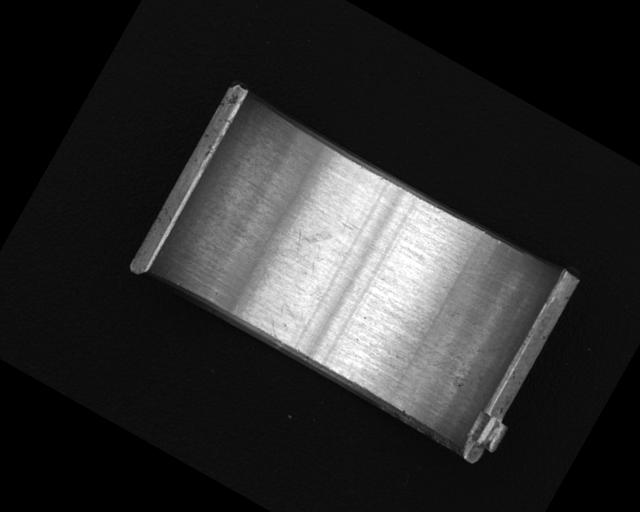blot: (273, 212, 338, 279)
